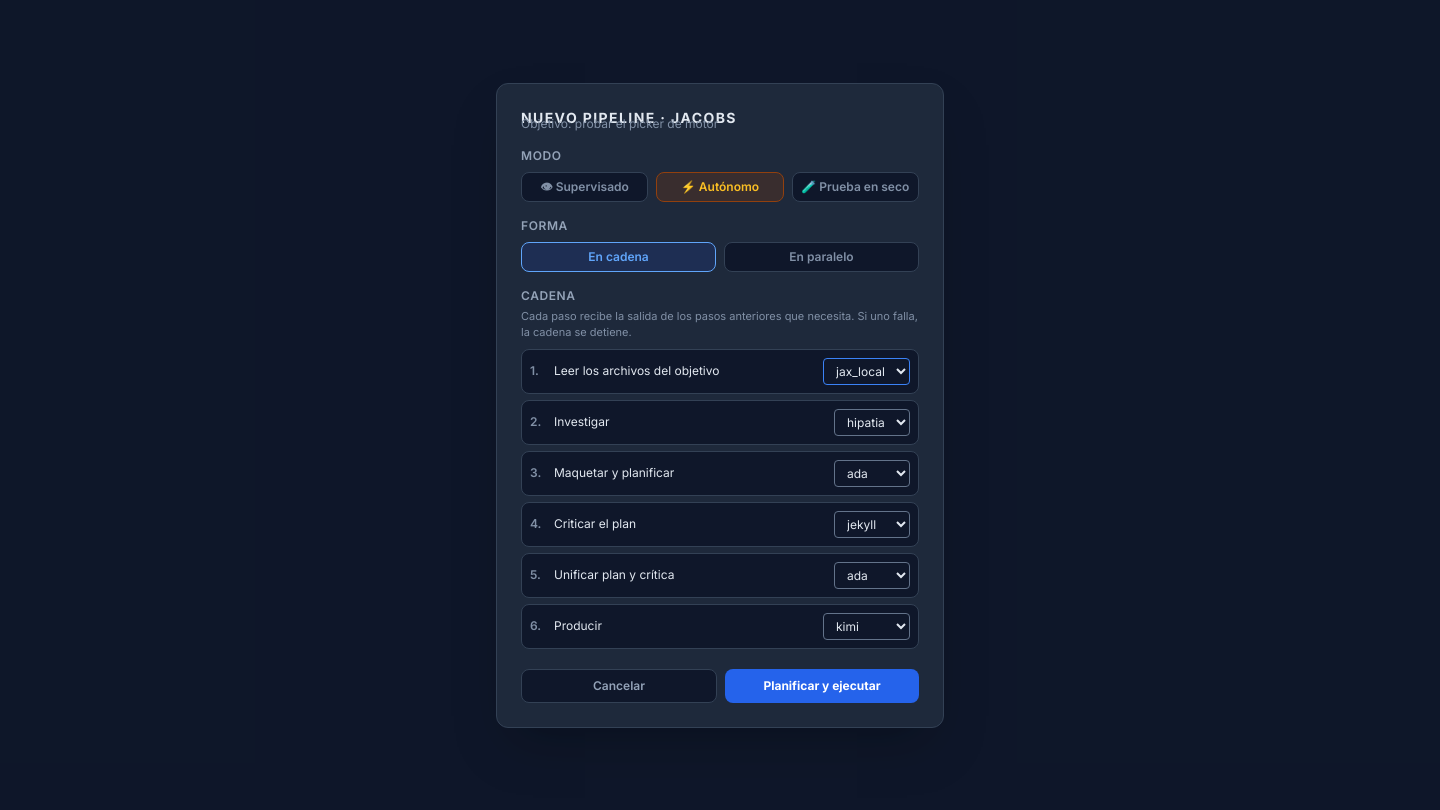
Test case: PipelineModal -- cadena en línea › si un paso coincide con la faceta de algo de lo que depende, avisa y no deja enviar (cleanroom)
expect the button "Planificar y ejecutar" is enabled: met, box [725,668,919,702]
Select "ada" in the dropdown named "Criticar el plan" at (872, 524), box [834,510,910,538]
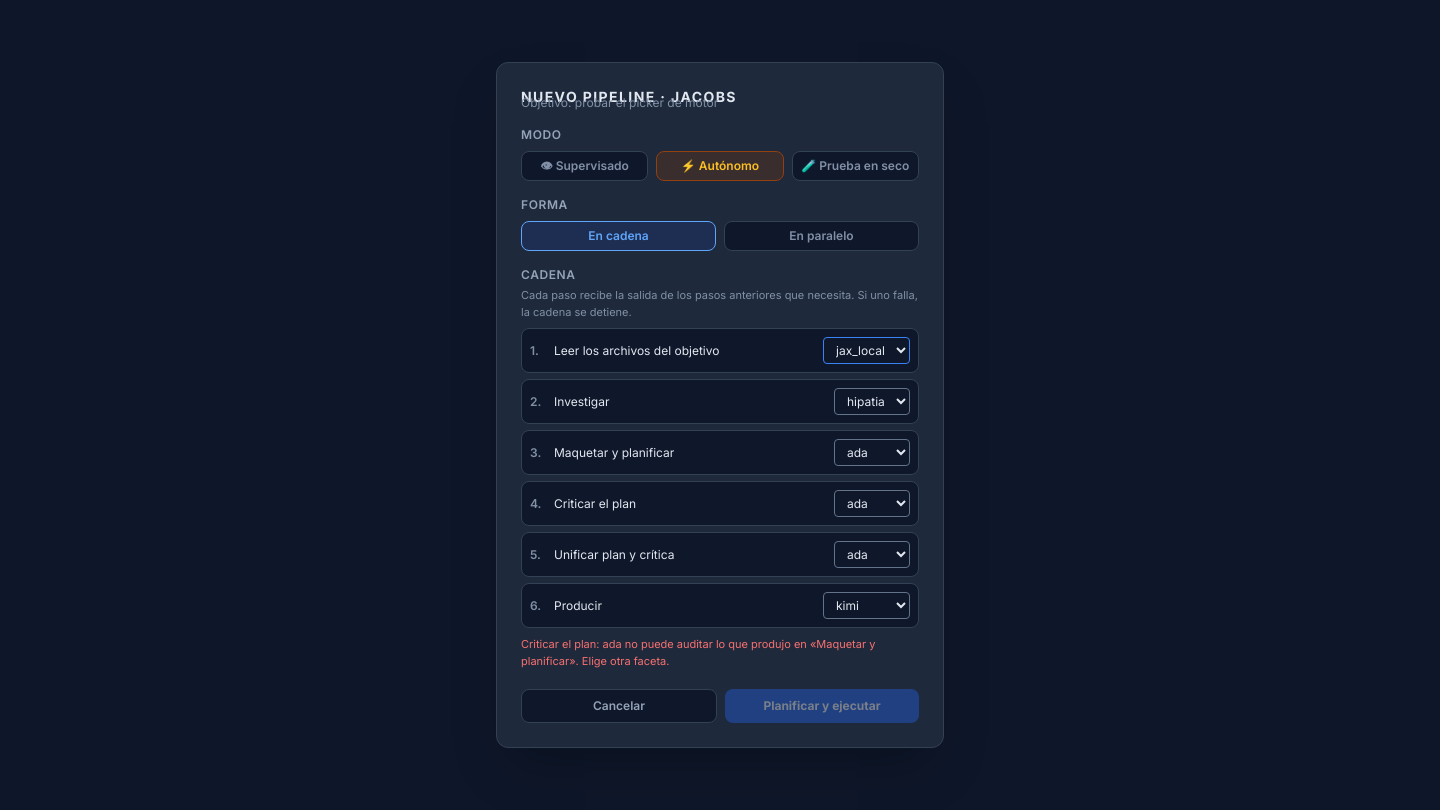
expect the text "no puede auditar lo que produjo" is shown: met, box [521,637,875,668]
expect the button "Planificar y ejecutar" is disabled: met, box [725,689,919,723]
